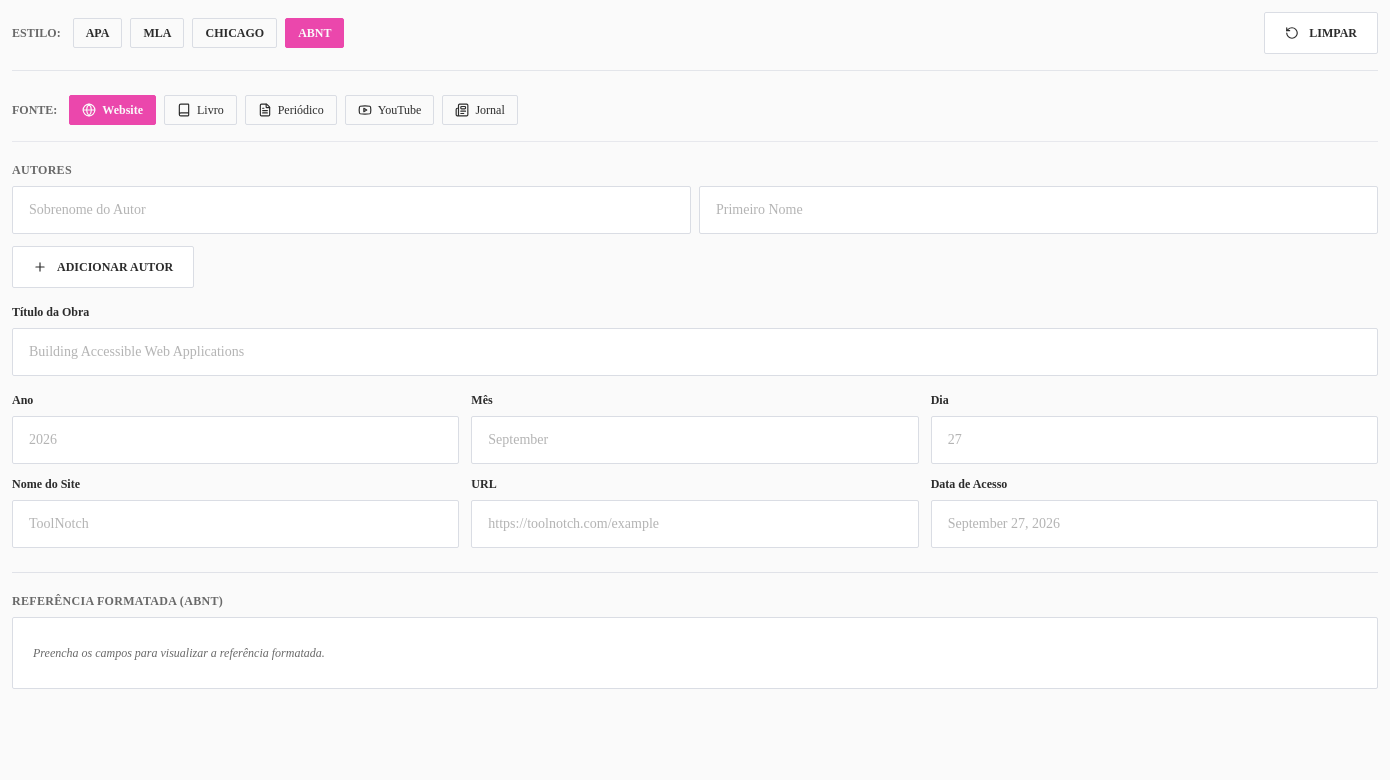
Test: Education Tools Components › AppCitationGenerator › formats ABNT citation correctly when selected
Type "Engenharia de Software" into the field labelled "Título da Obra" at point(695, 352), box [12,328,1378,376]
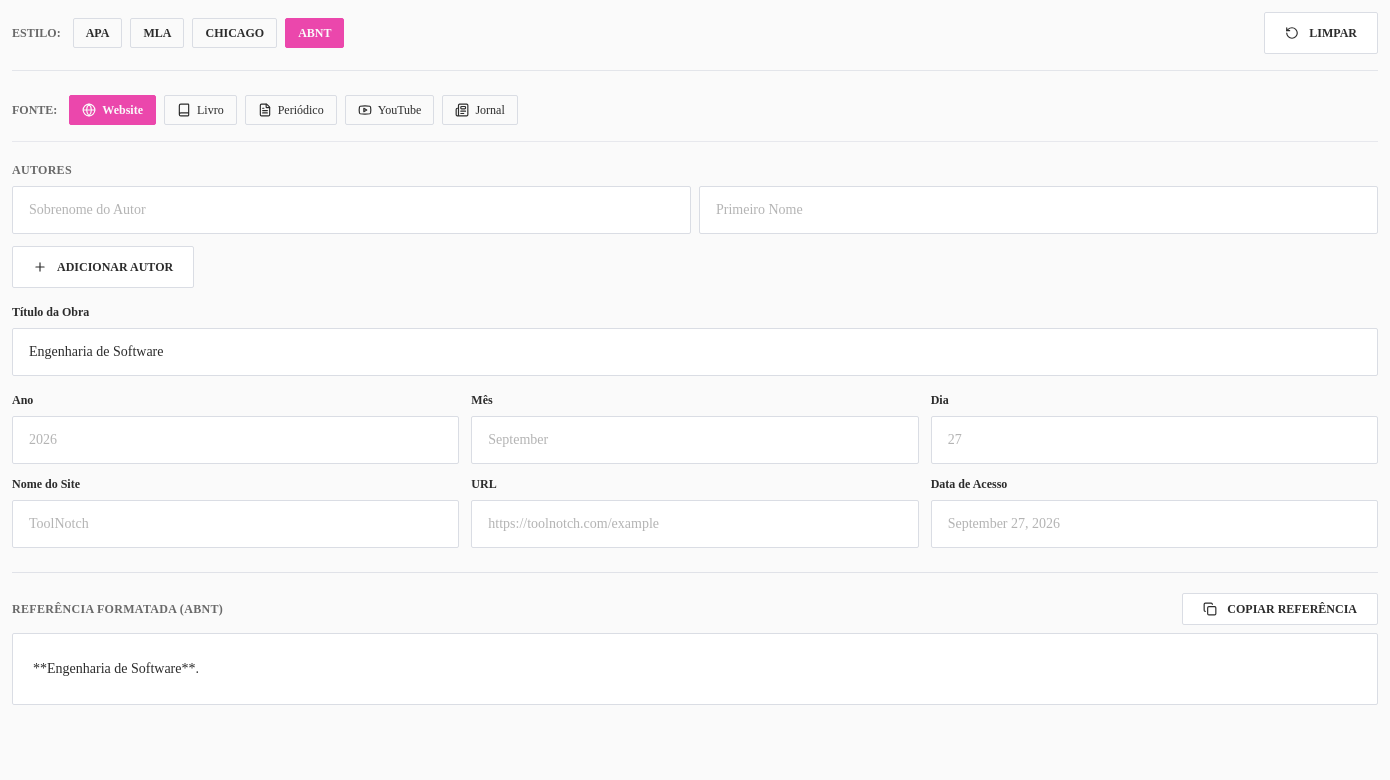
Type "Silva" into the field with placeholder "Sobrenome do Autor" at point(352, 210), box [12,186,691,234]
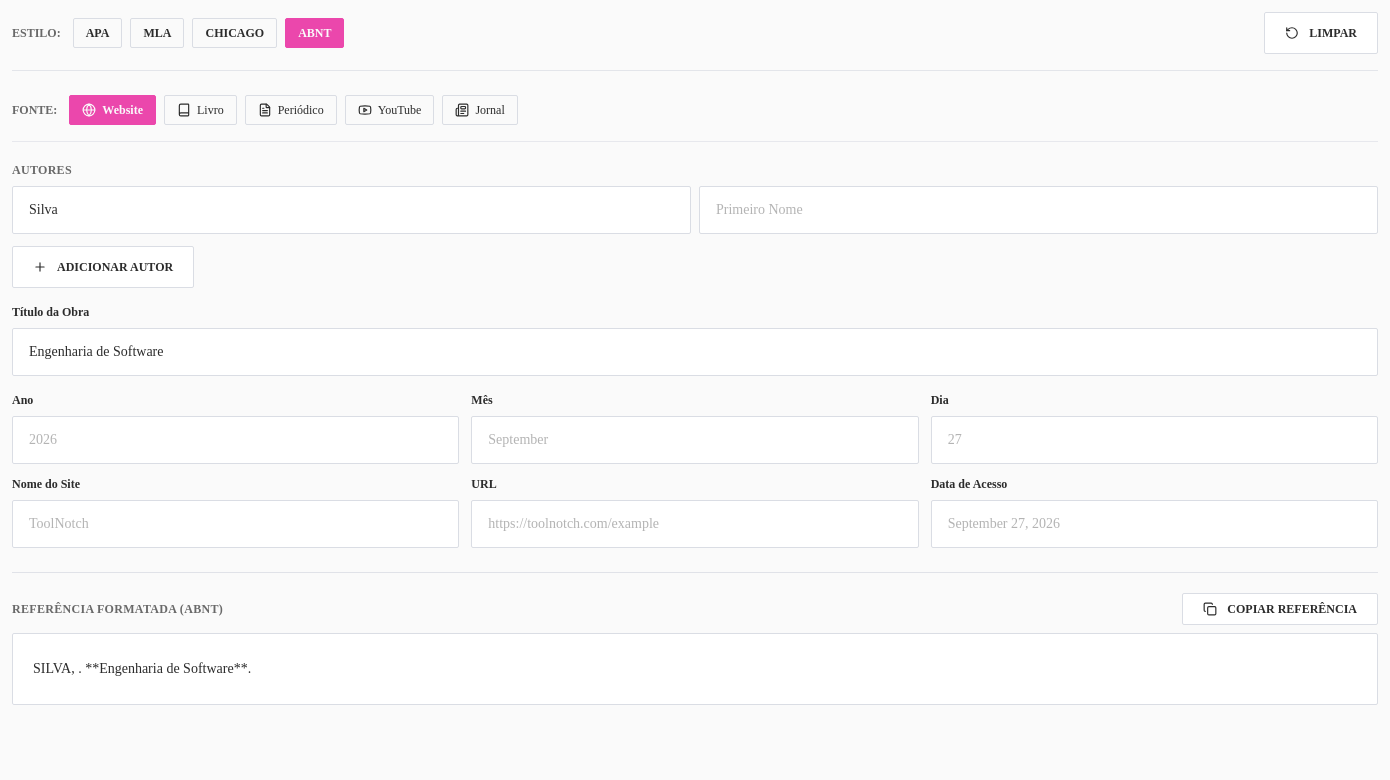
Type "Carlos" into the field with placeholder "Primeiro Nome" at point(1038, 210), box [699,186,1378,234]
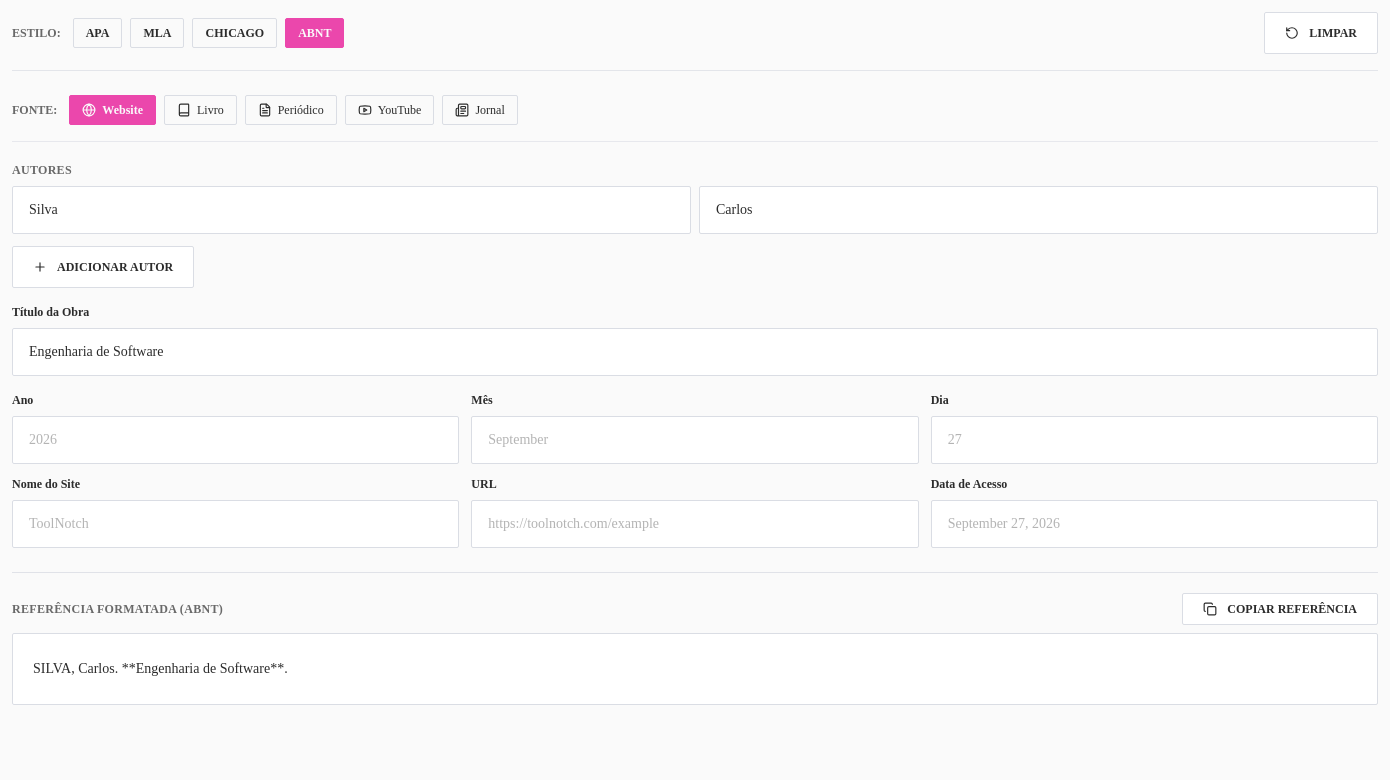
Now the text "SILVA, Carlos. **Engenharia de Software**." is shown, box [33,658,288,680]
